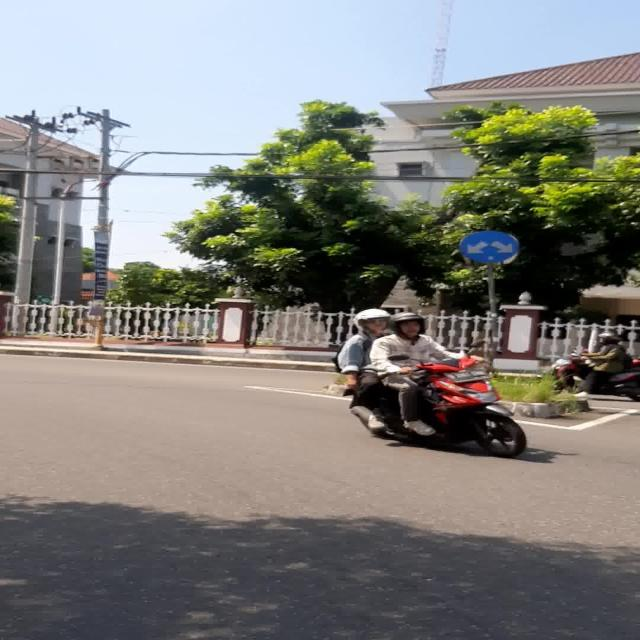Pilih Salah Satu Jalur: (460, 231, 518, 262)
